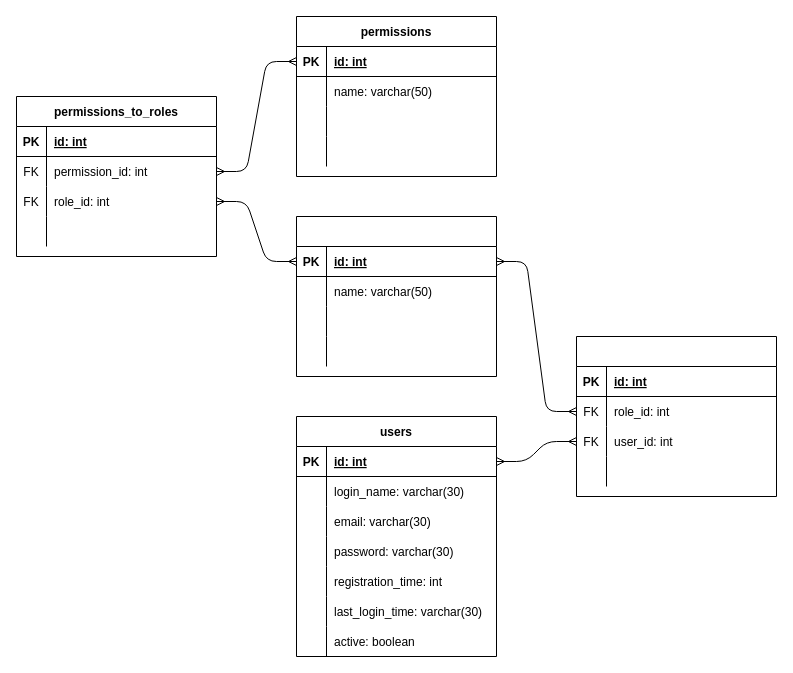
Some shapes in this 793 by 673 pixel diagram are drawn without their labels. Each missing label, with the box of its shape:
roles: (296, 216, 496, 376)
users_to_roles: (576, 336, 776, 496)
